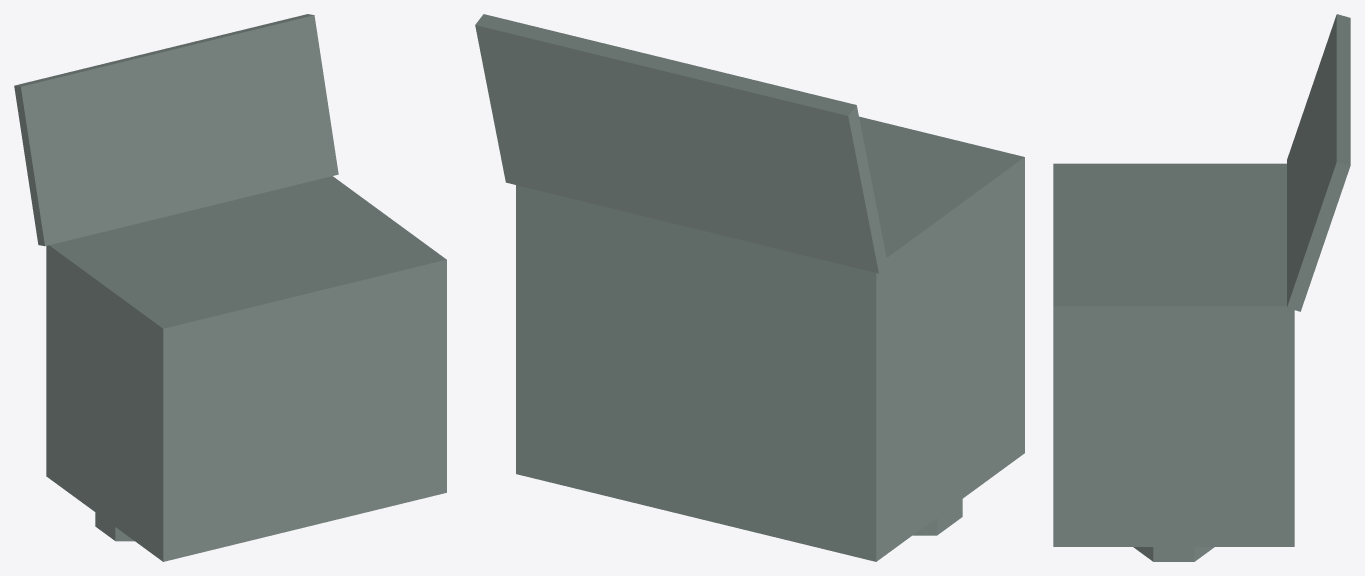
The model's file is SM_Contenedor_v1_Abierto_LOD1.fbx.
3 renders of one model, left to right at view 1: azimuth 30°, elevation 25°; view 2: azimuth 150°, elevation 25°; view 3: azimuth 270°, elevation 25°, orthographic. The views are drawn at different scales.
Parts seen in each view (by area): view 1: SM_urbano_extra_v1_LOD1; view 2: SM_urbano_extra_v1_LOD1; view 3: SM_urbano_extra_v1_LOD1.
Part boxes in pixels (bbox=[...]): SM_urbano_extra_v1_LOD1: bbox=[14, 14, 446, 561]; SM_urbano_extra_v1_LOD1: bbox=[475, 14, 1024, 561]; SM_urbano_extra_v1_LOD1: bbox=[1053, 14, 1350, 561].
Bounding box in the file's own units: 1.45 × 1.84 × 1.23.
